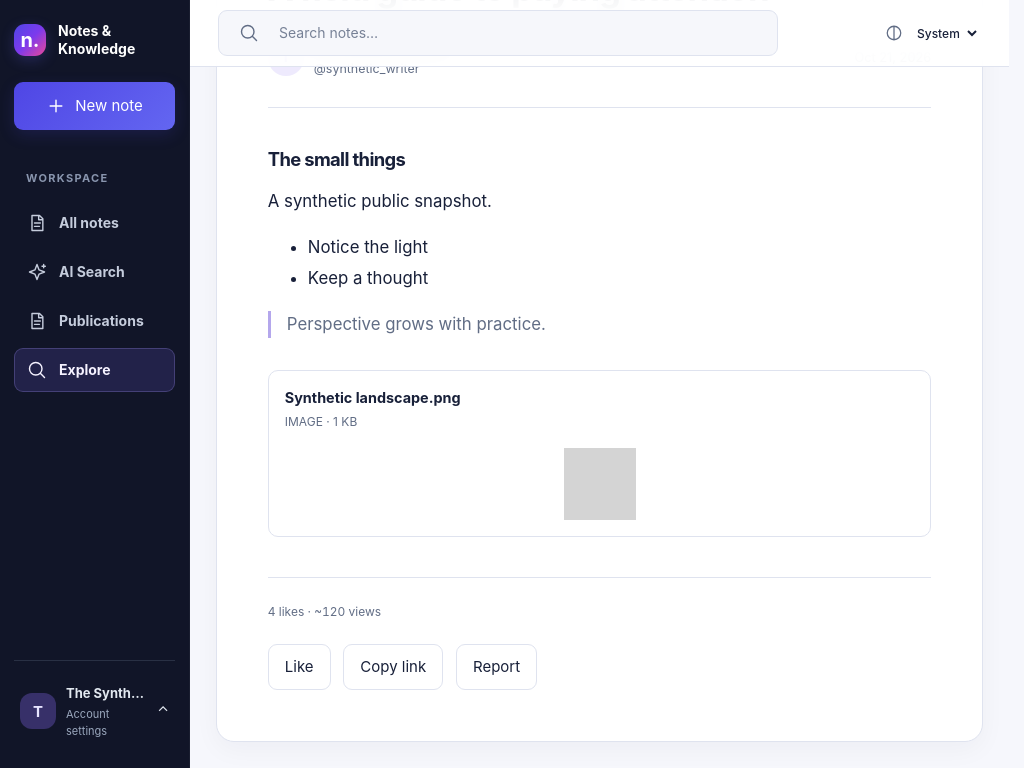
public routes and boundaries › returns a generic receipt, never the moderator Location/detail
(page scrolled)
Click the button "Report": x=497, y=667 [456,644,537,690]
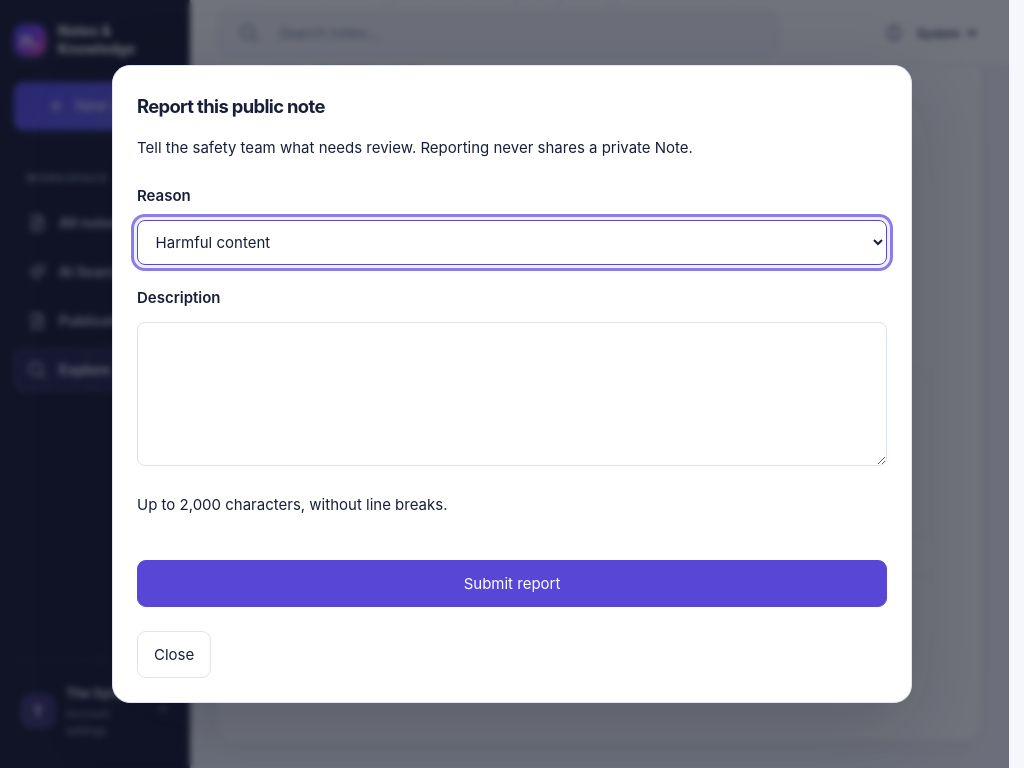
In the text box labelled "Description": x=512, y=394 [137,322,887,466], type "Synthetic public report"
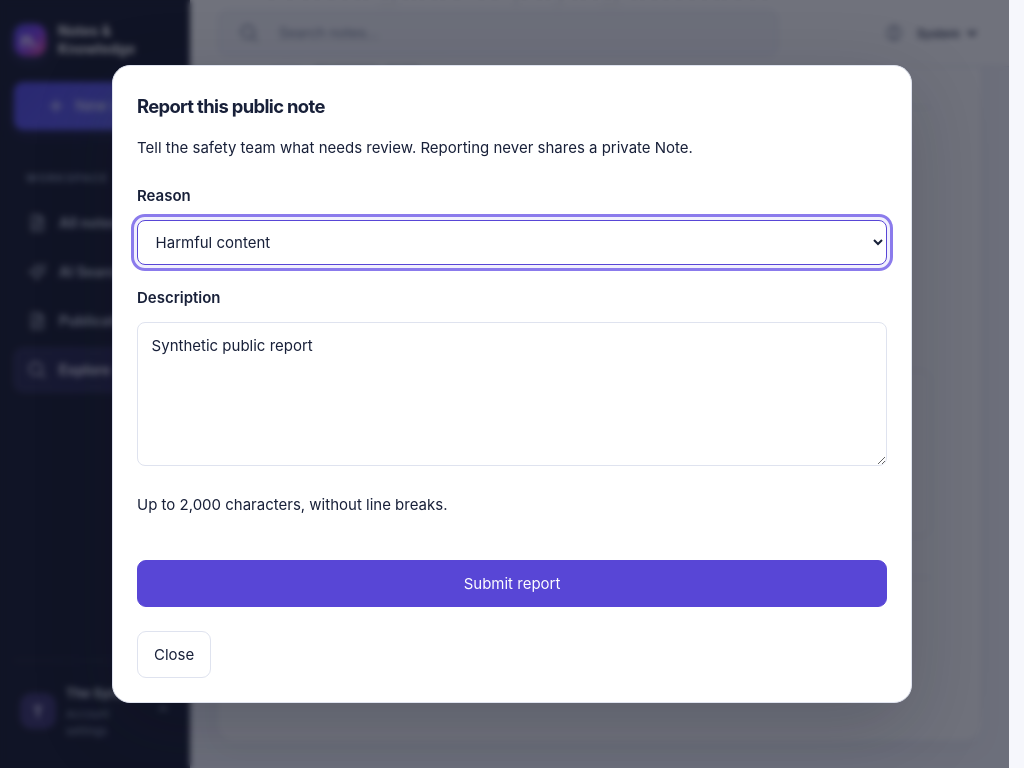
Click the button "Submit report": x=512, y=584 [137,560,887,607]
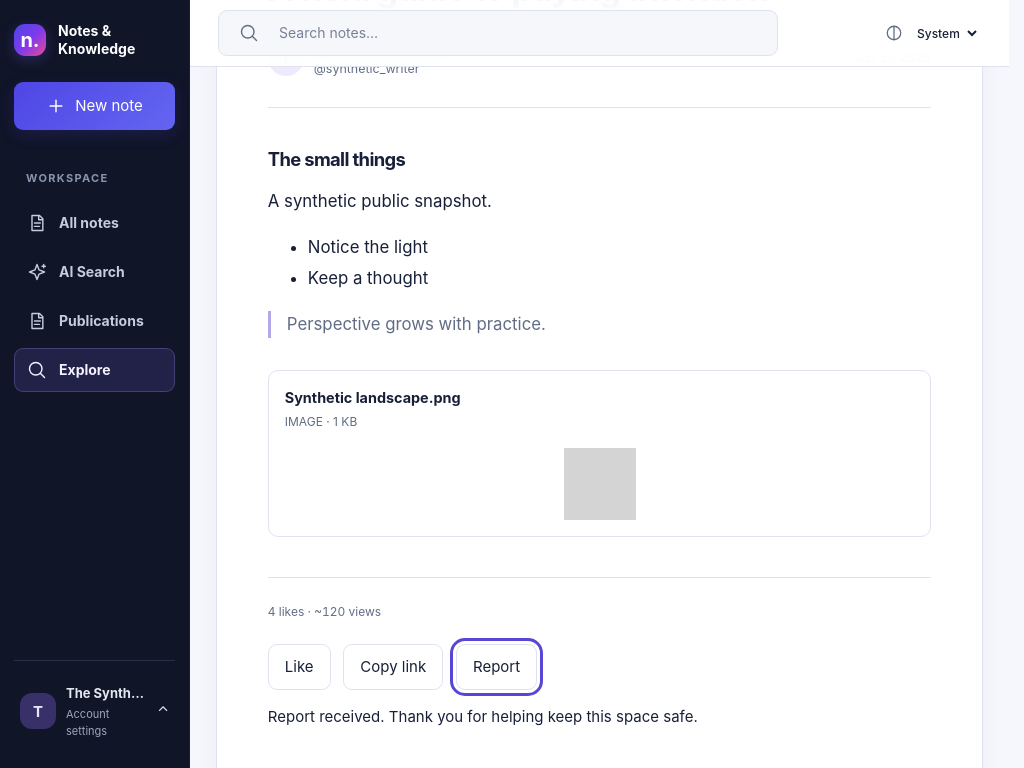
Now the text "Report received. Thank you for helping keep this space safe." is shown, box [268,707,698,726]
